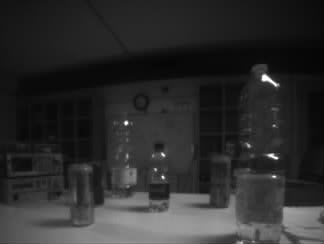Bottle: (238, 64, 282, 244), (109, 117, 138, 194), (147, 142, 170, 210)
Tin can: (68, 165, 95, 226), (210, 156, 229, 207)
